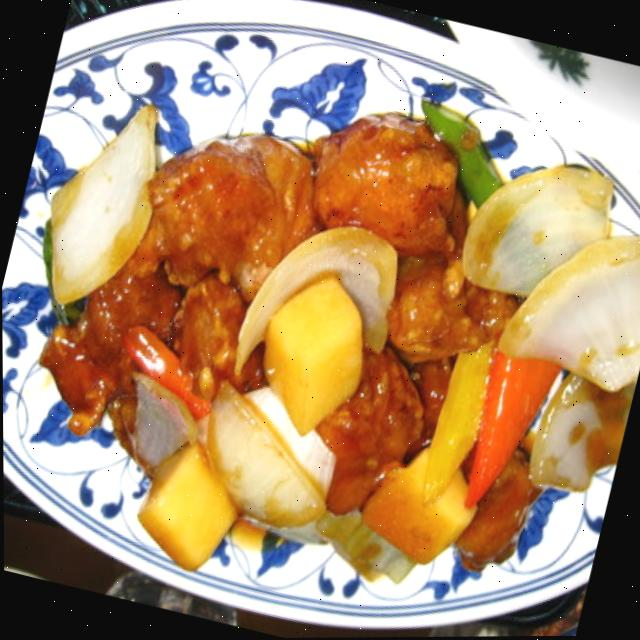猪肉菜式: (0, 27, 640, 640)
